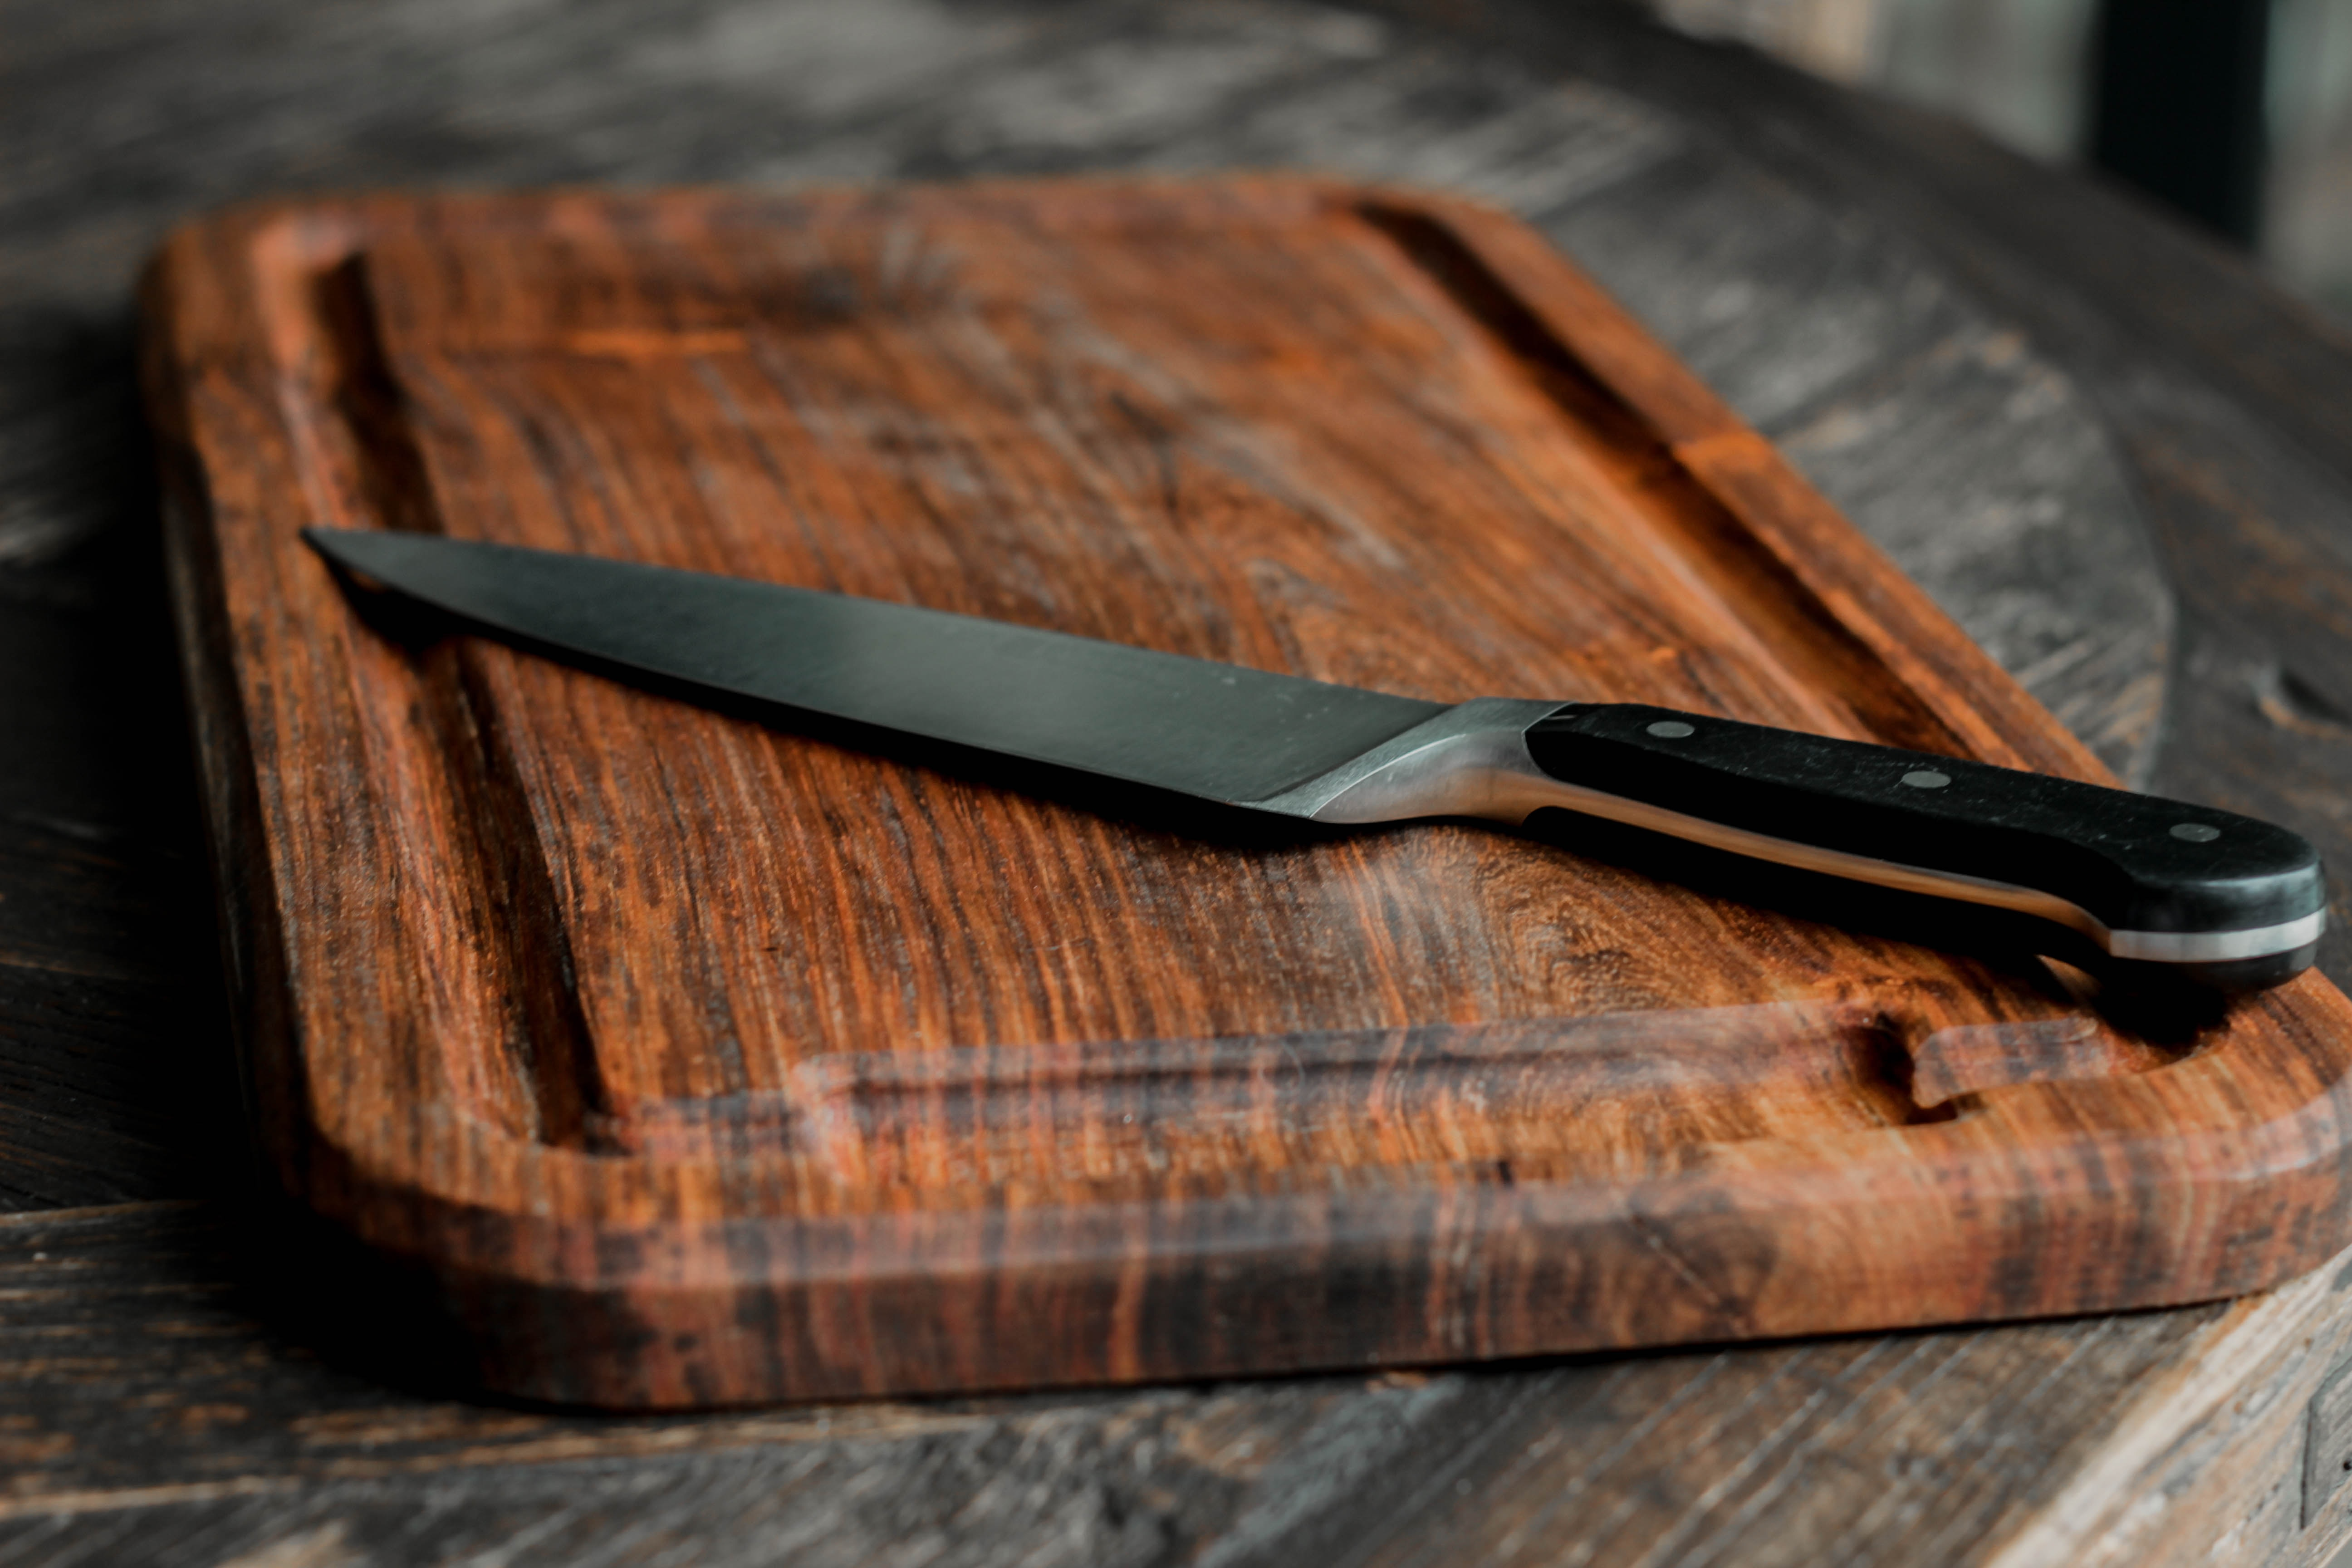knife: (280, 486, 2352, 1017)
